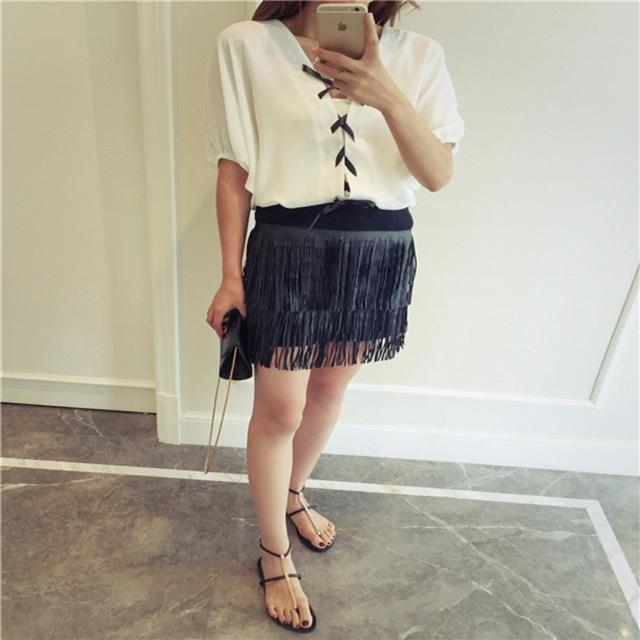long sleeve top: (213, 17, 458, 207)
skirt: (240, 202, 411, 365)
